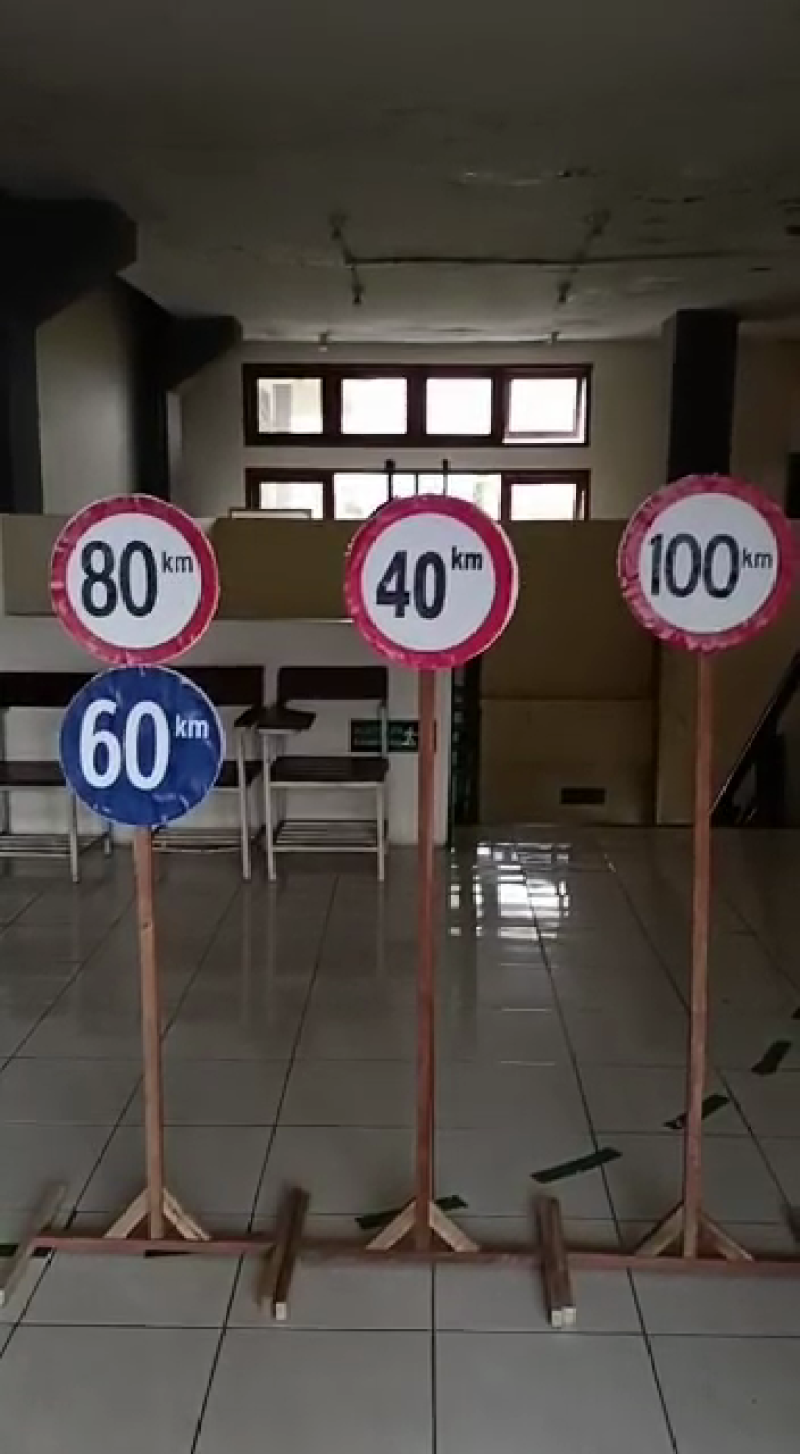batas maksimal 100kmperjam: (592, 448, 800, 681)
batas maksimal 40kmperjam: (342, 483, 518, 666)
batas maksimal 80kmperjam minimal 60kmperjam: (39, 479, 233, 840)
